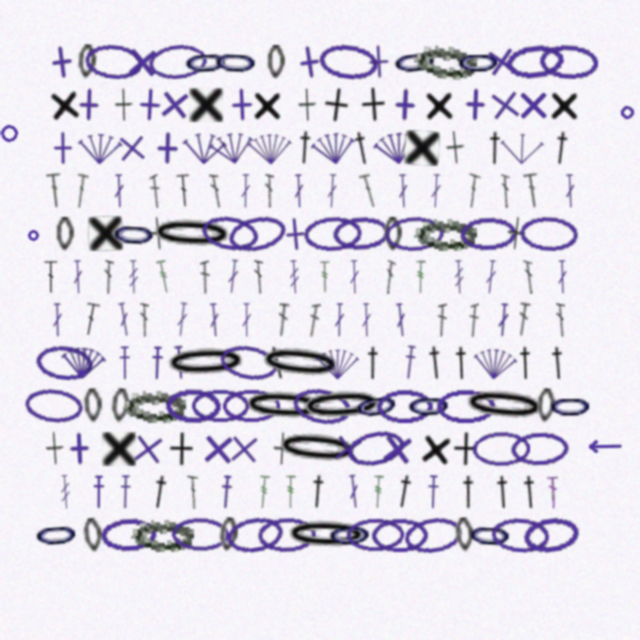chain: (257, 342, 344, 384), (461, 385, 548, 426), (274, 428, 361, 469), (299, 386, 385, 425), (149, 215, 235, 253), (241, 387, 327, 425), (163, 344, 249, 381), (284, 517, 369, 553), (225, 211, 290, 257), (344, 426, 408, 471), (217, 341, 281, 385), (290, 384, 353, 428), (224, 513, 286, 556), (199, 212, 260, 255), (402, 514, 464, 556), (317, 41, 379, 82), (413, 42, 478, 81), (521, 514, 582, 555), (23, 386, 85, 426), (504, 42, 565, 82), (83, 42, 145, 81), (147, 42, 208, 81), (34, 343, 94, 382), (490, 516, 551, 554), (538, 43, 599, 80), (384, 215, 445, 252), (303, 215, 363, 252), (332, 215, 391, 252), (519, 215, 578, 252), (510, 431, 570, 467), (414, 217, 477, 251), (123, 389, 186, 423), (131, 518, 194, 552), (459, 216, 518, 252), (351, 385, 402, 426), (100, 517, 158, 553), (257, 517, 316, 552), (472, 431, 530, 466), (171, 517, 229, 552), (436, 389, 495, 423), (165, 388, 222, 423), (191, 389, 249, 423), (222, 389, 280, 423), (376, 389, 434, 423), (346, 518, 404, 552), (371, 518, 429, 552), (390, 42, 440, 81), (32, 516, 81, 553), (182, 44, 230, 80), (212, 44, 260, 80), (110, 216, 158, 252), (466, 517, 514, 553), (405, 388, 453, 423), (326, 517, 374, 552), (455, 45, 502, 79), (547, 389, 594, 423), (82, 517, 104, 553), (110, 388, 131, 423), (218, 517, 239, 552), (454, 517, 475, 552), (77, 44, 97, 79), (83, 388, 103, 423), (536, 388, 556, 423), (267, 45, 285, 79), (56, 217, 74, 251), (384, 217, 402, 251)
double: (358, 173, 378, 208), (81, 302, 101, 337), (523, 173, 542, 208), (46, 173, 64, 208), (72, 173, 89, 208), (176, 173, 192, 208), (465, 173, 481, 208), (116, 302, 132, 337), (516, 302, 531, 337), (226, 259, 240, 294), (175, 302, 189, 337), (347, 474, 361, 509), (44, 260, 58, 294), (484, 260, 498, 294), (276, 303, 290, 337), (307, 303, 321, 337), (394, 303, 408, 337), (149, 174, 162, 208), (209, 174, 222, 208), (383, 260, 396, 294), (208, 303, 221, 337), (497, 303, 510, 337), (113, 174, 125, 208), (293, 174, 305, 208), (326, 174, 338, 208), (397, 174, 409, 208), (430, 174, 442, 208), (564, 174, 576, 208), (72, 260, 84, 294), (102, 260, 114, 294), (523, 260, 535, 294), (187, 475, 199, 509), (547, 475, 559, 509), (240, 174, 251, 208), (349, 260, 360, 294), (557, 260, 568, 294), (52, 303, 63, 337), (241, 303, 252, 337), (334, 303, 345, 337), (361, 303, 372, 337), (264, 174, 274, 208), (200, 260, 210, 294), (139, 303, 149, 337), (437, 303, 447, 337), (469, 303, 479, 337), (501, 174, 510, 208), (254, 260, 263, 294), (556, 303, 565, 337)
fan: (207, 127, 257, 168), (309, 128, 358, 168), (372, 128, 421, 168), (471, 344, 519, 382), (60, 344, 107, 381), (181, 130, 228, 166), (77, 130, 123, 166), (247, 130, 293, 166), (499, 130, 545, 165), (315, 346, 360, 380)
half_double: (265, 344, 290, 381), (392, 473, 417, 510), (350, 130, 374, 166), (148, 474, 172, 510), (550, 130, 573, 166), (294, 130, 316, 165), (307, 474, 329, 509), (425, 345, 446, 380), (485, 131, 505, 165), (363, 346, 383, 380), (548, 346, 568, 380), (493, 475, 513, 509), (520, 475, 540, 509), (452, 346, 471, 380), (516, 346, 535, 380), (459, 475, 478, 509), (402, 345, 418, 380), (172, 345, 187, 380), (219, 475, 234, 509), (150, 346, 164, 380), (426, 475, 440, 509), (118, 346, 131, 380), (92, 475, 105, 509), (119, 475, 132, 509)
noise: (586, 439, 622, 453), (0, 123, 20, 144), (620, 105, 635, 120), (26, 228, 40, 242)
single: (328, 429, 368, 469), (482, 42, 521, 81), (43, 43, 81, 81), (290, 43, 328, 81), (486, 86, 524, 124), (129, 430, 167, 468), (378, 430, 416, 468), (156, 86, 193, 123), (419, 430, 454, 468), (124, 44, 160, 80), (114, 130, 150, 166), (404, 130, 440, 166), (277, 216, 313, 252), (200, 431, 236, 467), (226, 431, 262, 467), (48, 86, 82, 123), (361, 44, 396, 79), (71, 87, 106, 122), (132, 87, 167, 122), (224, 87, 259, 122), (387, 87, 422, 122), (458, 87, 493, 122), (88, 216, 123, 251), (62, 431, 97, 466), (189, 88, 223, 122), (516, 88, 550, 122), (46, 131, 80, 165), (150, 131, 184, 165), (102, 432, 136, 466), (321, 87, 351, 123), (252, 88, 283, 122), (424, 88, 455, 122), (549, 88, 580, 122), (359, 87, 387, 122), (168, 432, 194, 466), (452, 432, 478, 466), (445, 130, 466, 165), (148, 216, 169, 251), (506, 216, 527, 251), (45, 431, 65, 466), (298, 88, 317, 122), (273, 432, 292, 466), (115, 88, 133, 122)
treble: (155, 259, 173, 294), (257, 475, 271, 509), (288, 260, 301, 294), (59, 475, 72, 509), (319, 260, 331, 294), (453, 260, 465, 294), (372, 475, 384, 509), (128, 260, 139, 294), (415, 260, 426, 294), (285, 475, 296, 509)
